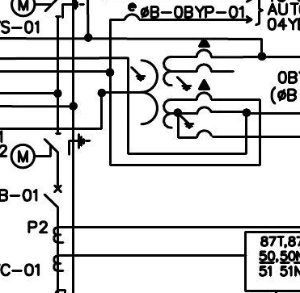115_3ways_ds_w_motor: (10, 132, 92, 170)
115_breaker: (50, 185, 69, 209)
115_vt_1p: (130, 38, 214, 130)
